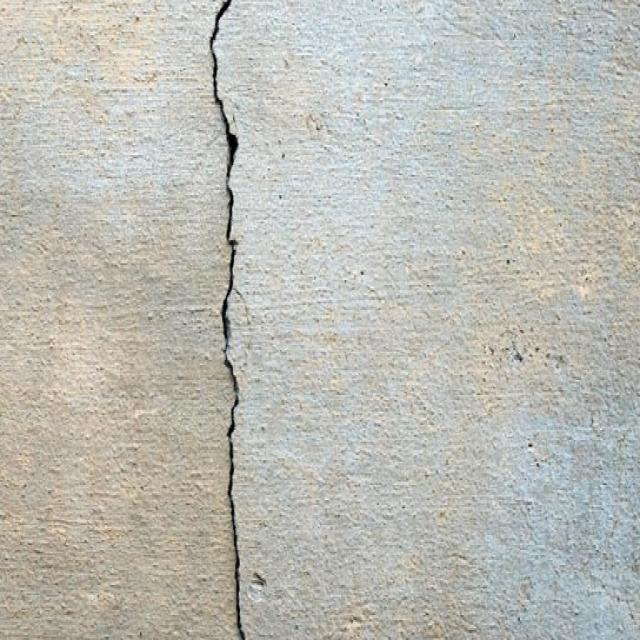crack: (199, 3, 252, 638)
